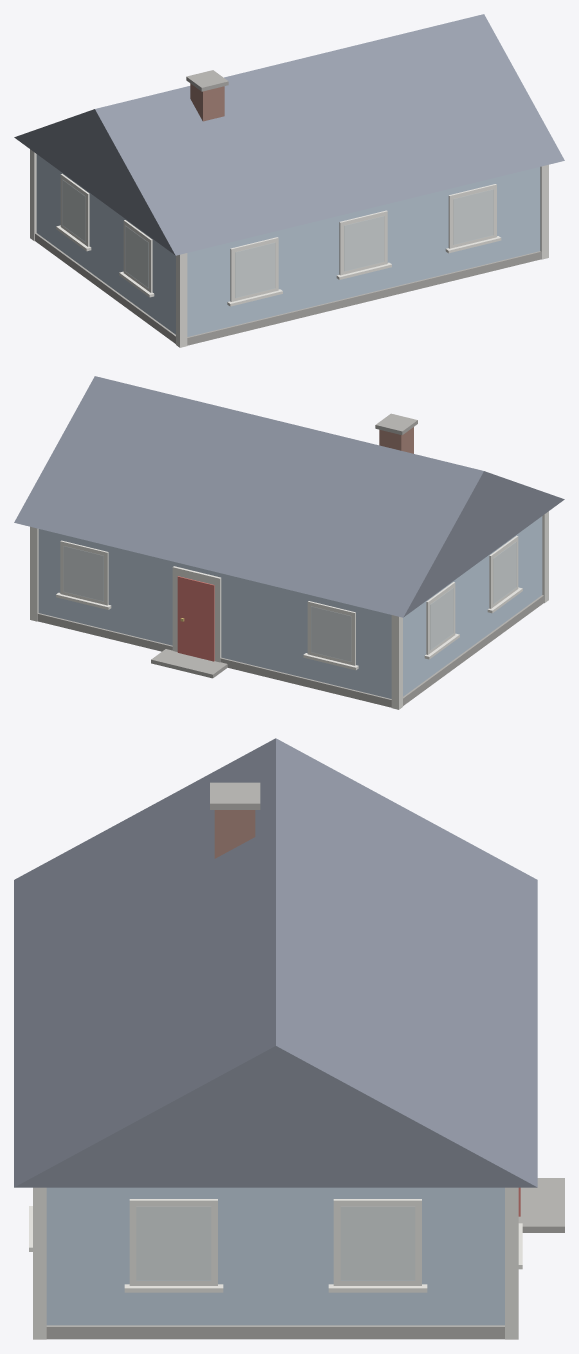
Rendered from house_small_b.glb.
The picture shows the model from 3 angles, top to bottom: view 1: azimuth 30°, elevation 25°; view 2: azimuth 150°, elevation 25°; view 3: azimuth 270°, elevation 25°; orthographic projection. The views are drawn at different scales.
Visible parts, largest first — view 1: roof, body; view 2: roof, body; view 3: roof, body.
Part boxes in pixels (<box>): roof: <box>14,14,564,255</box>; body: <box>30,149,548,347</box>; roof: <box>14,376,564,617</box>; body: <box>30,511,548,709</box>; roof: <box>14,738,537,1187</box>; body: <box>29,1178,564,1339</box>.
Size of the model in its own units: 10.7 by 5.29 by 8.1.
